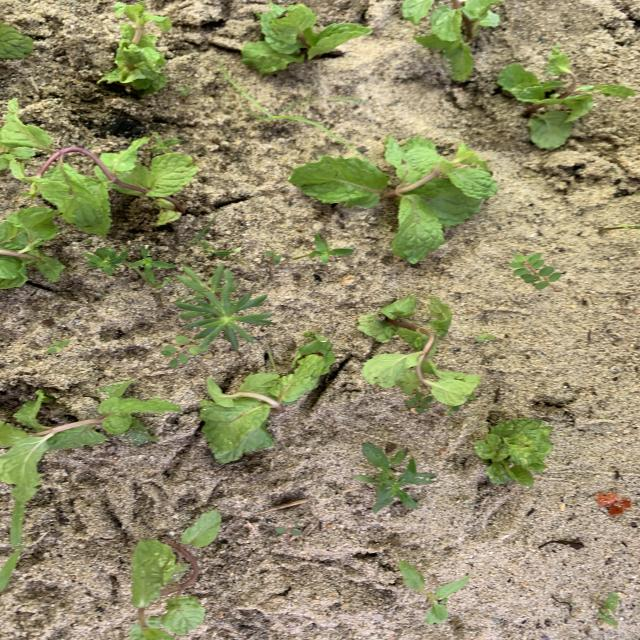crop: (2, 389, 179, 541), (1, 100, 198, 235), (291, 136, 496, 261), (200, 333, 335, 461), (358, 296, 479, 412), (498, 48, 634, 147), (132, 511, 221, 639), (242, 6, 371, 72), (403, 1, 501, 79), (97, 2, 171, 92), (1, 207, 64, 287), (475, 419, 551, 485), (1, 23, 34, 58)
weed: (220, 63, 365, 150), (175, 264, 273, 350), (354, 444, 434, 511), (400, 562, 470, 623), (510, 253, 561, 289), (132, 247, 173, 286), (162, 333, 205, 367), (310, 233, 352, 262), (83, 247, 127, 274), (598, 594, 617, 625), (151, 134, 181, 153), (125, 430, 159, 445), (406, 392, 431, 411), (275, 520, 305, 535), (46, 340, 71, 353), (265, 251, 282, 262), (177, 86, 191, 97), (476, 334, 495, 341)
